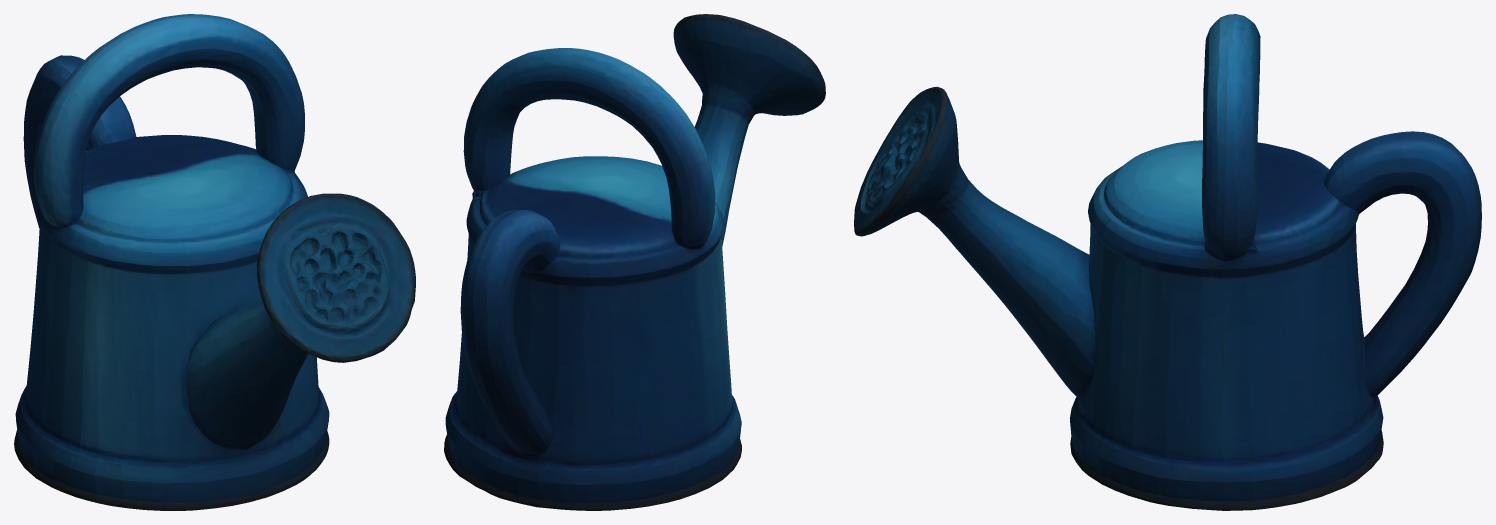
File: watering_can.glb
3 renders of one model, left to right at view 1: azimuth 30°, elevation 25°; view 2: azimuth 150°, elevation 25°; view 3: azimuth 270°, elevation 25°, orthographic. The views are drawn at different scales.
Parts seen in each view (by area): view 1: world; view 2: world; view 3: world.
Part boxes in pixels (x1,y1,x2,y2): world: (14,14,415,510); world: (444,14,825,510); world: (854,14,1481,510).
Size of the model in its own units: 0.4965 by 0.7337 by 1.
Materials: 1 (1 with a texture image).
